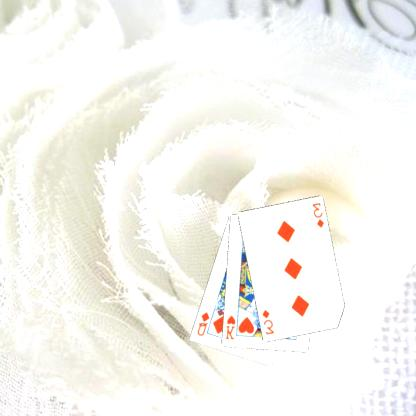3D: (261, 307, 277, 336), (311, 201, 327, 230)
KH: (224, 312, 238, 340)
QD: (196, 309, 212, 337)
